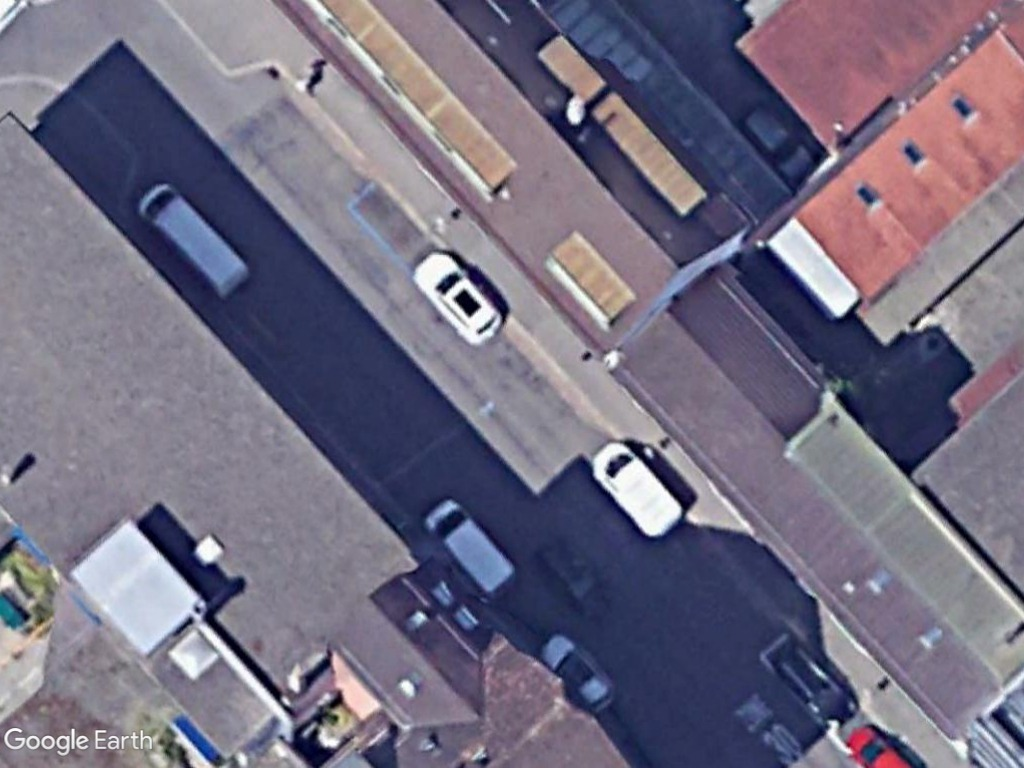car: (408, 243, 508, 351), (535, 631, 618, 719)
van: (130, 172, 255, 303), (418, 494, 519, 598), (589, 436, 685, 540)
